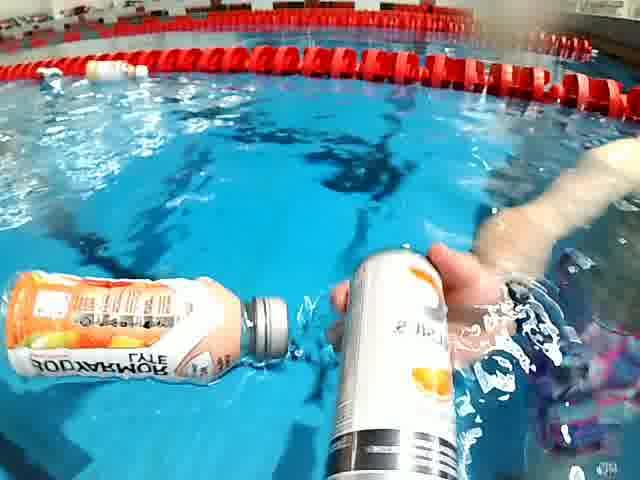Bottle: (2, 262, 299, 392), (78, 58, 157, 85)
Can: (319, 243, 468, 480)
